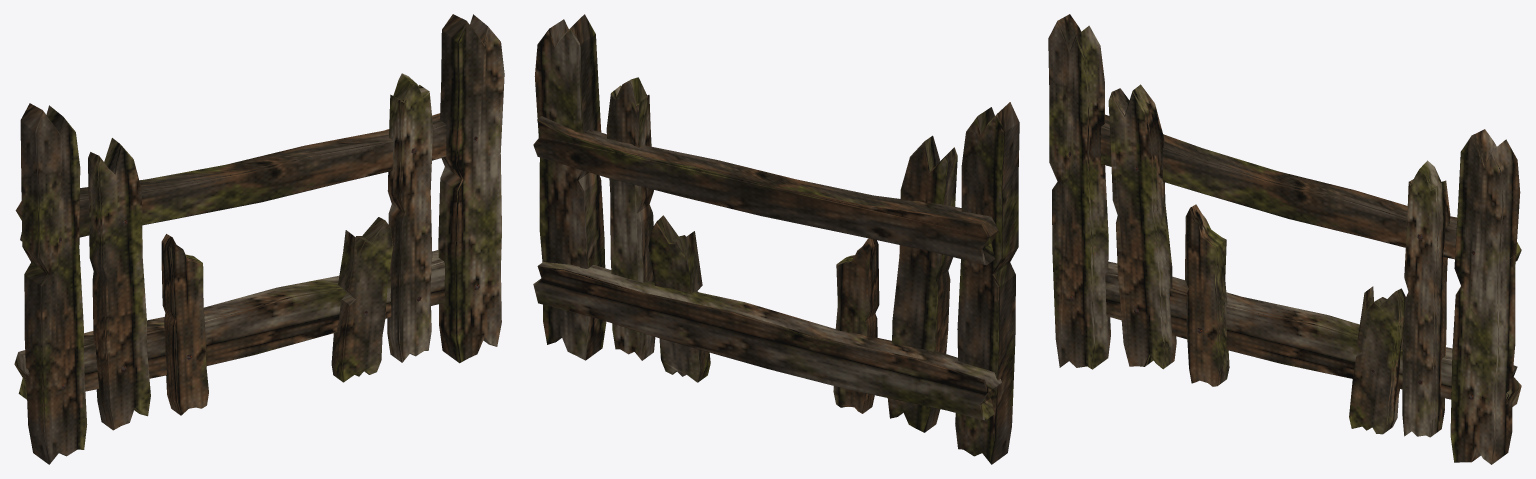
The model's file is Cerca-Falha-Central.glb.
3 renders of one model, left to right at view 1: azimuth 30°, elevation 25°; view 2: azimuth 150°, elevation 25°; view 3: azimuth 330°, elevation 25°, orthographic. The views are drawn at different scales.
Parts seen in each view (by area): view 1: Cerca quebrada; view 2: Cerca quebrada; view 3: Cerca quebrada.
Part boxes in pixels (x1,y1,x2,y2): Cerca quebrada: (14, 14, 504, 464); Cerca quebrada: (533, 14, 1019, 464); Cerca quebrada: (1048, 14, 1521, 464).
Bounding box in the file's own units: 2.26 × 1.64 × 0.2593.
Materials: 2 (2 with a texture image).
